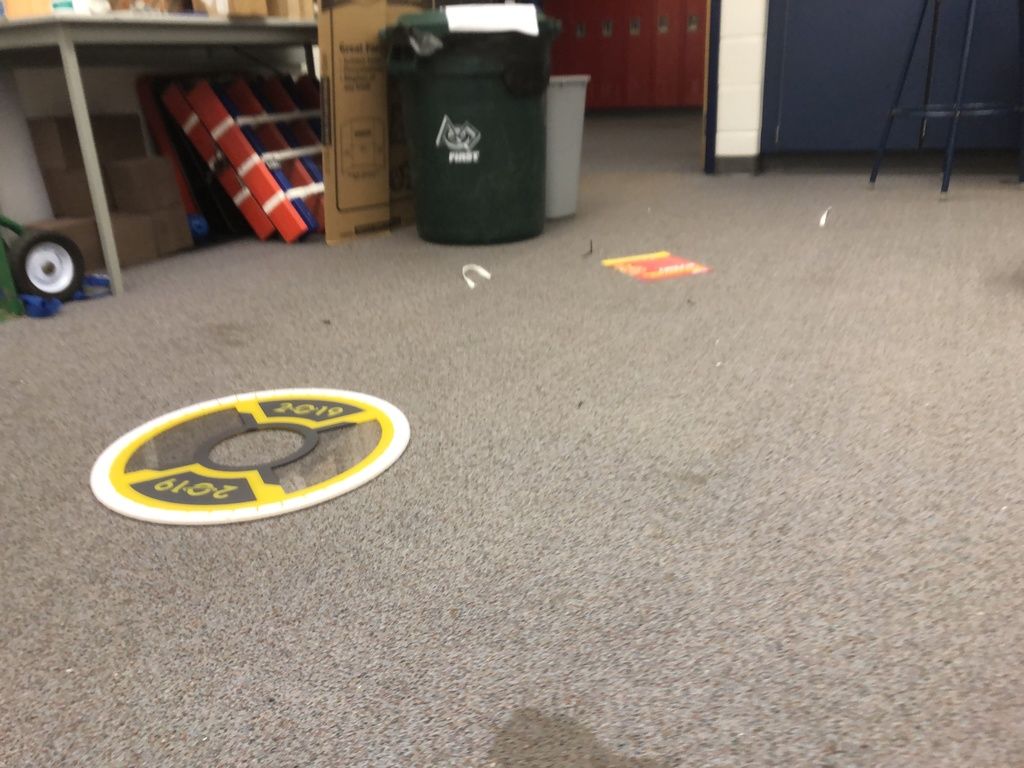hatch_panel: (79, 377, 428, 536)
